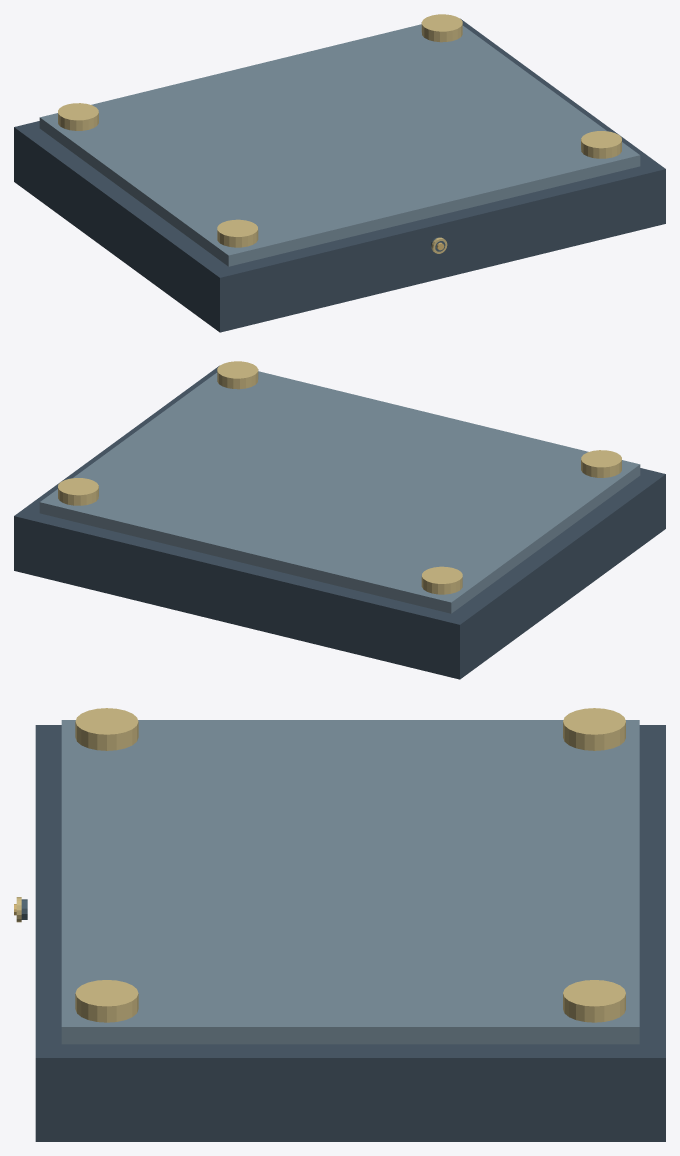
The model's file is 02_L81_FourChipletMissionComputerCarrier.glb.
3 views of the same model, one above another, from view 1: azimuth 30°, elevation 25°; view 2: azimuth 150°, elevation 25°; view 3: azimuth 270°, elevation 25° (orthographic). The views are drawn at different scales.
Parts seen in each view (by area): view 1: FourChipletMissionComputerCarrier_Node_0001, FourChipletMissionComputerCarrier_Node_0000, FourChipletMissionComputerCarrier_Node_0003, FourChipletMissionComputerCarrier_Node_0004, FourChipletMissionComputerCarrier_Node_0002, FourChipletMissionComputerCarrier_Node_0005; view 2: FourChipletMissionComputerCarrier_Node_0001, FourChipletMissionComputerCarrier_Node_0000, FourChipletMissionComputerCarrier_Node_0002, FourChipletMissionComputerCarrier_Node_0005, FourChipletMissionComputerCarrier_Node_0003, FourChipletMissionComputerCarrier_Node_0004; view 3: FourChipletMissionComputerCarrier_Node_0001, FourChipletMissionComputerCarrier_Node_0000, FourChipletMissionComputerCarrier_Node_0003, FourChipletMissionComputerCarrier_Node_0005, FourChipletMissionComputerCarrier_Node_0002, FourChipletMissionComputerCarrier_Node_0004.
Part boxes in pixels (x1,y1,x2,y2): FourChipletMissionComputerCarrier_Node_0001: (39,24,640,266); FourChipletMissionComputerCarrier_Node_0000: (14,18,665,332); FourChipletMissionComputerCarrier_Node_0003: (217,219,258,247); FourChipletMissionComputerCarrier_Node_0004: (421,14,462,42); FourChipletMissionComputerCarrier_Node_0002: (58,103,98,130); FourChipletMissionComputerCarrier_Node_0005: (581,131,621,158); FourChipletMissionComputerCarrier_Node_0001: (39,371,640,613); FourChipletMissionComputerCarrier_Node_0000: (14,365,665,679); FourChipletMissionComputerCarrier_Node_0002: (421,566,462,594); FourChipletMissionComputerCarrier_Node_0005: (217,361,258,389); FourChipletMissionComputerCarrier_Node_0003: (581,450,621,477); FourChipletMissionComputerCarrier_Node_0004: (58,478,98,505); FourChipletMissionComputerCarrier_Node_0001: (61,720,639,1044); FourChipletMissionComputerCarrier_Node_0000: (35,725,665,1141); FourChipletMissionComputerCarrier_Node_0003: (75,708,138,750); FourChipletMissionComputerCarrier_Node_0005: (75,980,138,1022); FourChipletMissionComputerCarrier_Node_0002: (563,708,625,750); FourChipletMissionComputerCarrier_Node_0004: (563,980,625,1022).
Size of the model in its own units: 3.75 by 0.62 by 3.1.
